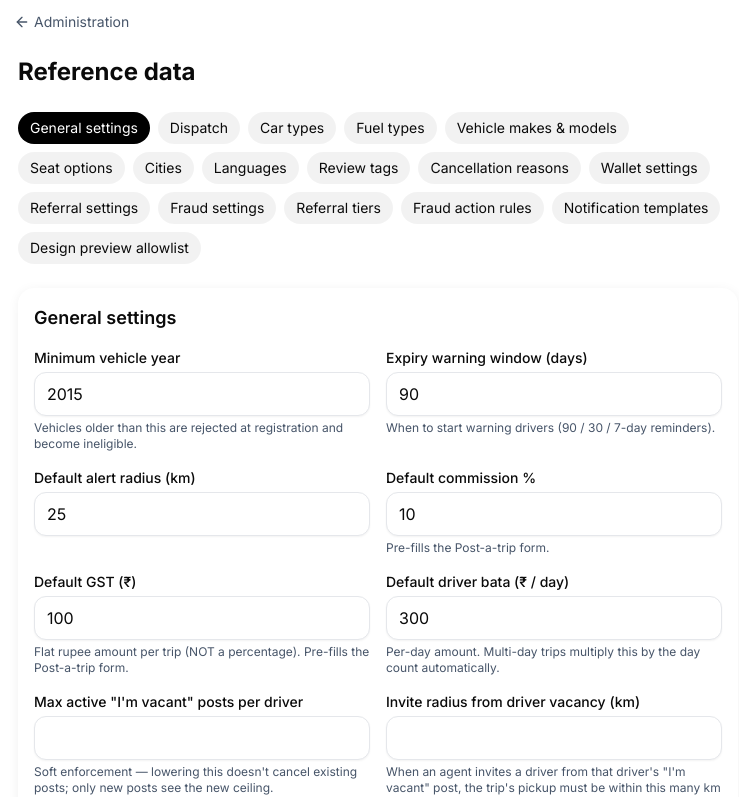
Test: AdminConfigPage › Car types section lists rows
The image size is (739, 797).
Click the button "Car types": (292, 128) [248,112,336,144]
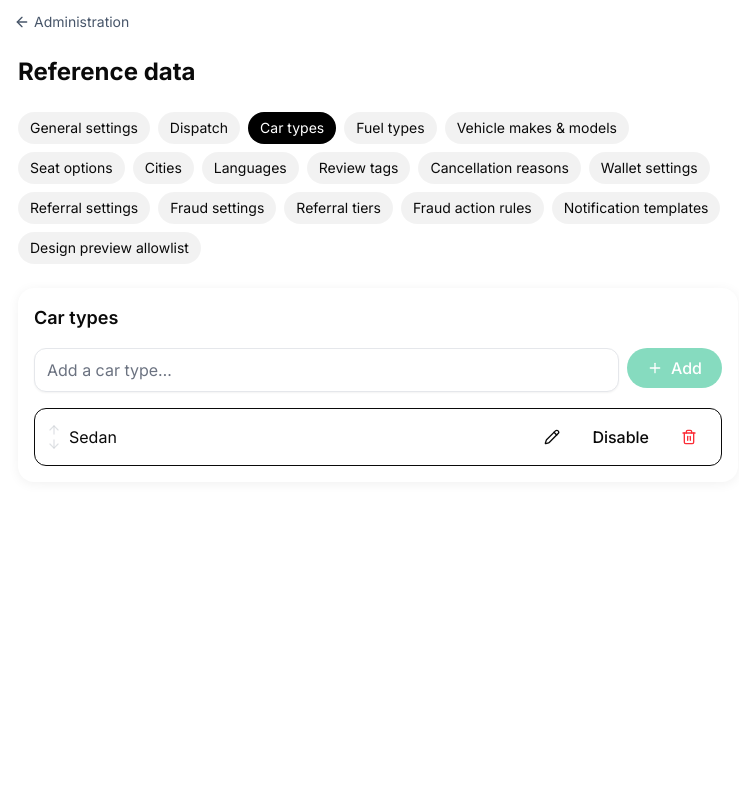
Expected: the heading "Car types" is shown, [34,307,118,328]
Expected: the text "Sedan" is shown, [69,427,117,447]
